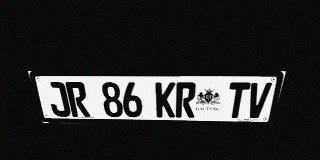6: (121, 82, 143, 117)
8: (100, 82, 123, 117)
J: (44, 82, 72, 117)
K: (155, 82, 175, 117)
R: (65, 82, 90, 117), (175, 82, 196, 118)
T: (225, 82, 251, 118)
V: (245, 82, 272, 118)
